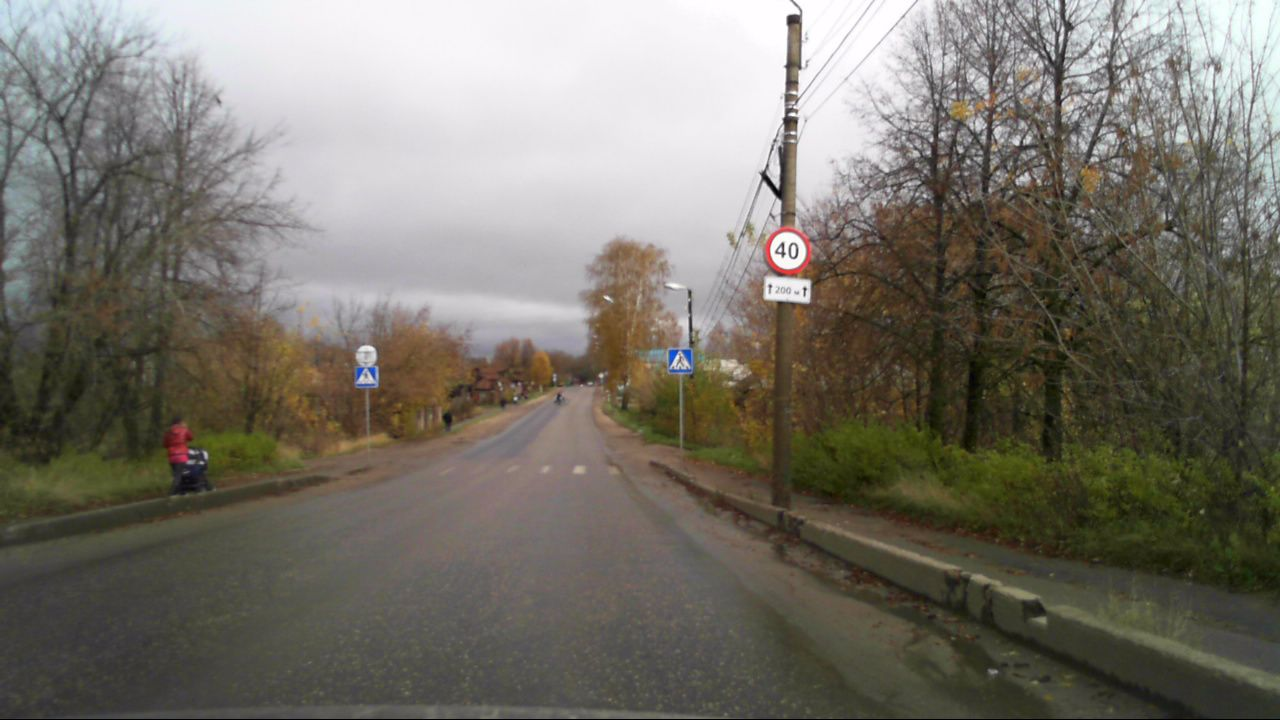speed_warning_40: (764, 226, 812, 275)
